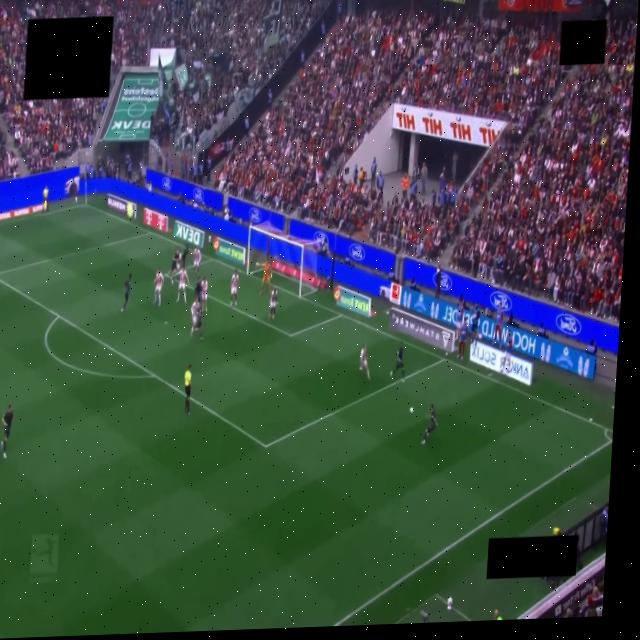ball: (410, 408, 413, 413)
player: (0, 405, 12, 458), (421, 404, 436, 444), (390, 344, 404, 378), (190, 301, 202, 339), (176, 268, 188, 303), (169, 249, 180, 284), (120, 275, 130, 313), (259, 262, 270, 295), (359, 345, 369, 380), (153, 270, 163, 304), (229, 271, 238, 307), (269, 288, 277, 321), (200, 279, 207, 312), (194, 279, 203, 303), (193, 247, 200, 276), (181, 246, 188, 268)
referee: (182, 364, 193, 415)
